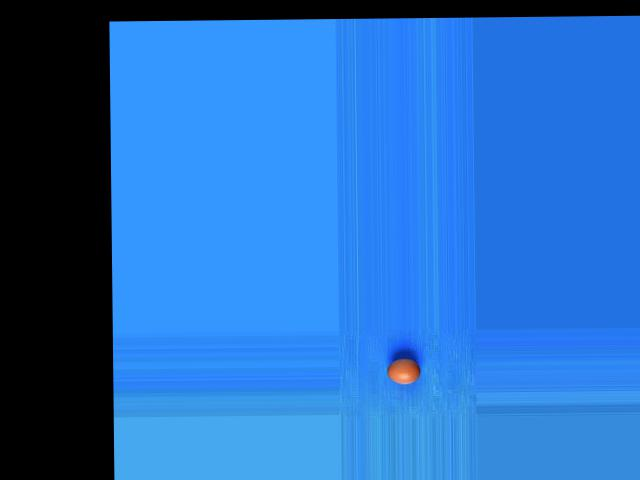egg: (387, 357, 420, 384)
